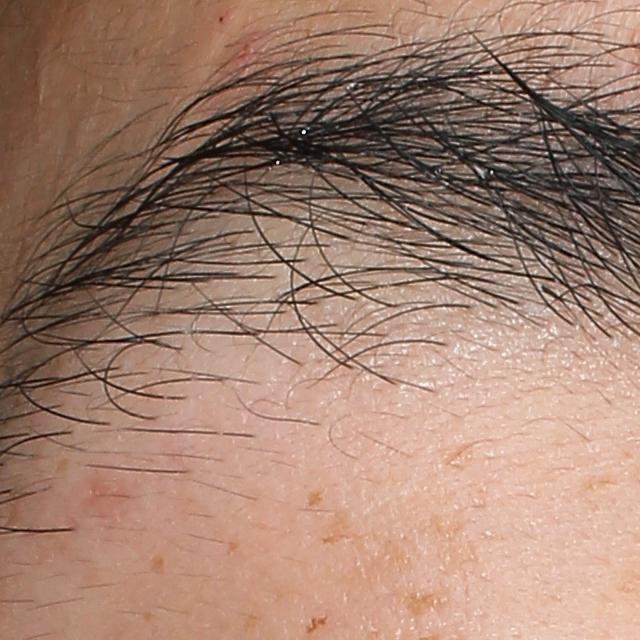melasma: (404, 585, 451, 616), (150, 551, 165, 577)
